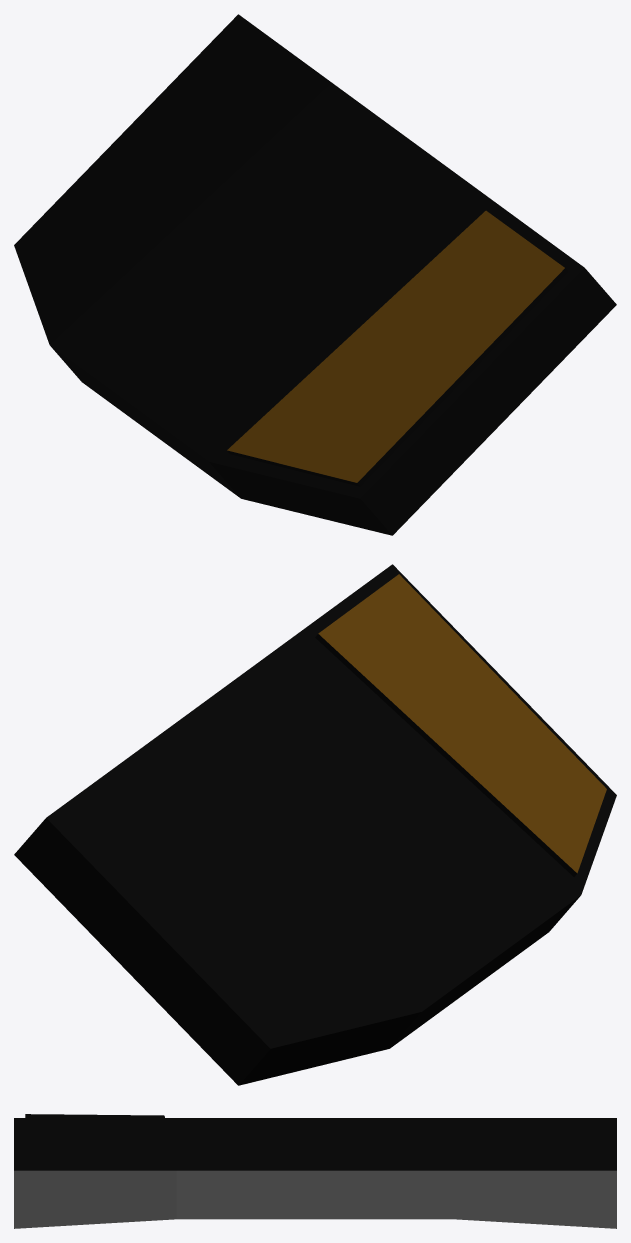
Rendered from E-2_FinL_Part_Wipeout.fbx.
3 renders of one model, top to bottom at view 1: azimuth 30°, elevation 25°; view 2: azimuth 150°, elevation 25°; view 3: azimuth 270°, elevation 25°, orthographic. The views are drawn at different scales.
Visible parts, largest first — view 1: E-2_FinL_Ship; view 2: E-2_FinL_Ship; view 3: E-2_FinL_Ship.
Part boxes in pixels (x1,y1,x2,y2): E-2_FinL_Ship: [14, 14, 616, 535]; E-2_FinL_Ship: [14, 564, 616, 1085]; E-2_FinL_Ship: [14, 1114, 616, 1228].
Bounding box in the file's own units: 224 × 428 × 162.
